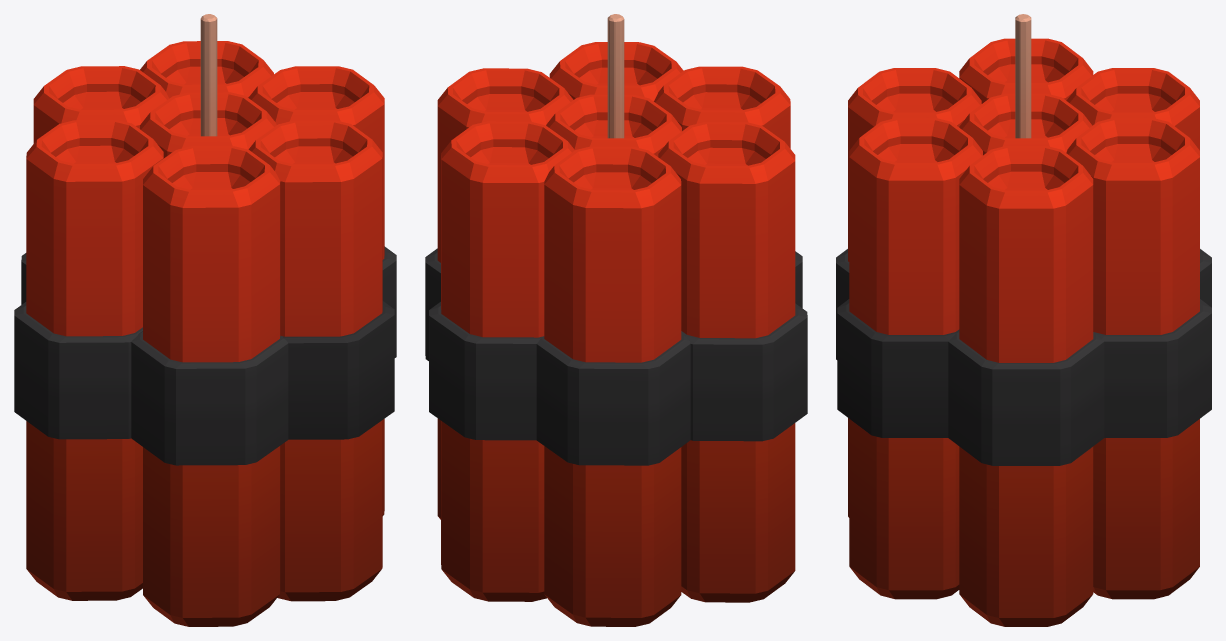
The model's file is small_tnt.glb.
3 views of the same model, side by side, from view 1: azimuth 30°, elevation 25°; view 2: azimuth 150°, elevation 25°; view 3: azimuth 270°, elevation 25° (orthographic).
Visible parts, largest first — view 1: Object_5, Object_4, Object_6, Object_12, Object_11, Object_13, Object_7, Object_3, Object_8, Object_2, Object_15, Object_14; view 2: Object_3, Object_4, Object_2, Object_10, Object_11, Object_9, Object_7, Object_5, Object_8, Object_6, Object_15, Object_14; view 3: Object_7, Object_6, Object_2, Object_14, Object_13, Object_9, Object_5, Object_3, Object_4, Object_8, Object_15, Object_12 (+1 smaller).
Boxes of the visible parts, box(x1,y1,x2,y2) form: Object_5: box(143, 146, 280, 626); Object_4: box(26, 120, 163, 600); Object_6: box(248, 120, 382, 601); Object_12: box(131, 331, 288, 465); Object_11: box(14, 302, 142, 439); Object_13: box(283, 301, 394, 439); Object_7: box(248, 66, 384, 515); Object_3: box(33, 66, 168, 143); Object_8: box(140, 92, 276, 158); Object_2: box(140, 41, 273, 98); Object_15: box(200, 14, 217, 136); Object_14: box(382, 246, 396, 357); Object_3: box(544, 146, 681, 626); Object_4: box(658, 122, 795, 602); Object_2: box(441, 121, 574, 601); Object_10: box(536, 333, 690, 465); Object_11: box(681, 303, 807, 441); Object_9: box(429, 302, 543, 440); Object_7: box(437, 68, 573, 519); Object_5: box(654, 66, 790, 148); Object_8: box(546, 94, 681, 156); Object_6: box(549, 42, 683, 101); Object_15: box(607, 14, 624, 138); Object_14: box(425, 248, 440, 360); Object_7: box(959, 146, 1093, 626); Object_6: box(849, 118, 982, 599); Object_2: box(1066, 118, 1199, 599); Object_14: box(948, 332, 1104, 465); Object_13: box(837, 299, 959, 437); Object_9: box(1093, 299, 1211, 437); Object_5: box(848, 68, 981, 517); Object_3: box(1066, 68, 1199, 150); Object_4: box(959, 38, 1093, 103); Object_8: box(959, 93, 1092, 155); Object_15: box(1015, 14, 1031, 138); Object_12: box(836, 249, 849, 359).
Size of the model in its own units: 1.68 by 2.46 by 1.57.
15 materials, 14 textured.
